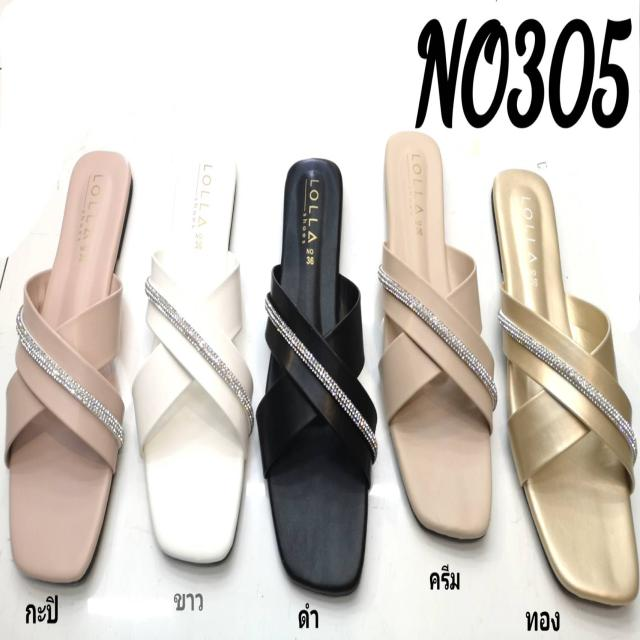black: (267, 155, 369, 589)
cream: (385, 136, 495, 545)
gold: (491, 174, 640, 601)
kapi: (10, 149, 129, 583)
white: (142, 138, 242, 567)
